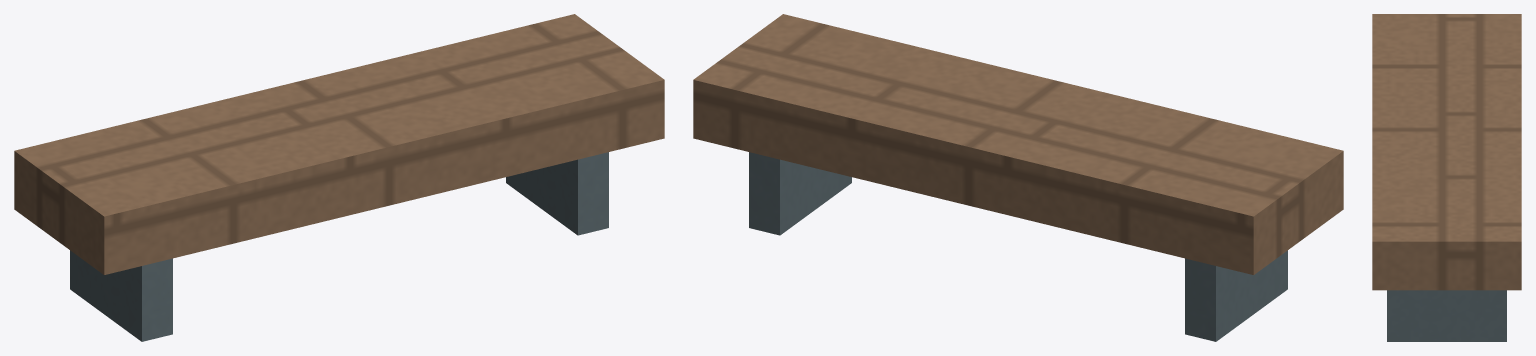
File: bench.glb
3 views of the same model, side by side, from view 1: azimuth 30°, elevation 25°; view 2: azimuth 150°, elevation 25°; view 3: azimuth 270°, elevation 25° (orthographic). The views are drawn at different scales.
Size of the model in its own units: 1.8 by 0.44 by 0.5.
2 materials, 2 textured.
